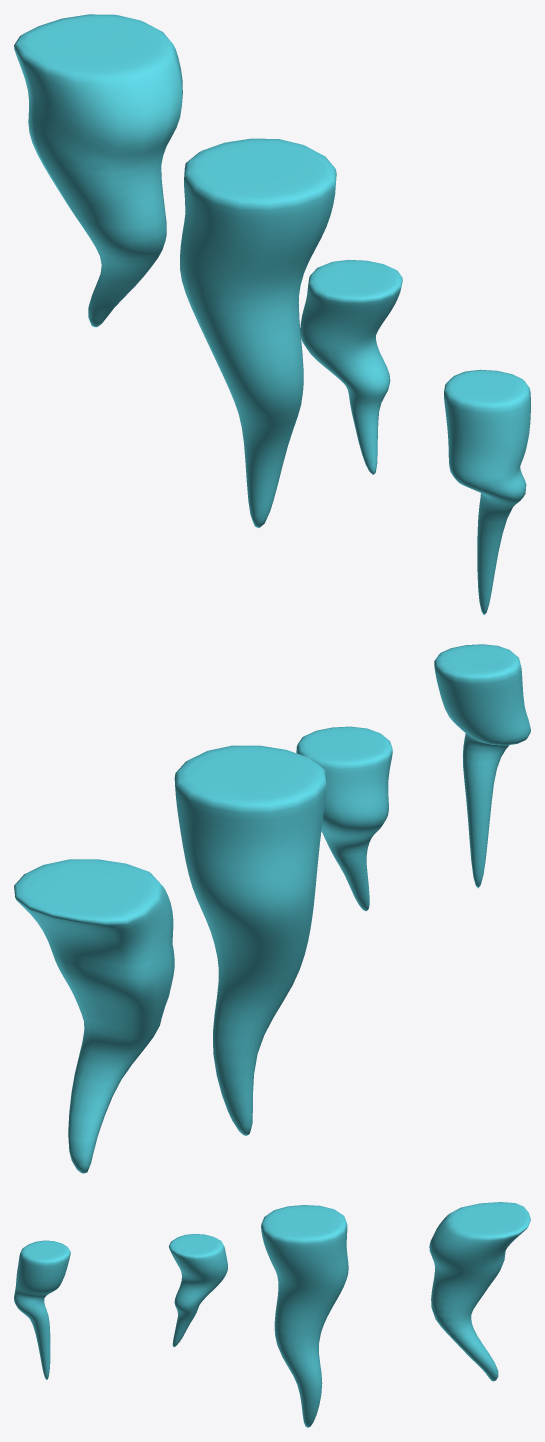
File: Eiszapfen 3.glb
The picture shows the model from 3 angles, top to bottom: view 1: azimuth 30°, elevation 25°; view 2: azimuth 150°, elevation 25°; view 3: azimuth 270°, elevation 25°; orthographic projection. The views are drawn at different scales.
Visible parts, largest first — view 1: Cube, Cube.001, Cube.003, Cube.002; view 2: Cube, Cube.001, Cube.003, Cube.002; view 3: Cube, Cube.001, Cube.003, Cube.002.
Part boxes in pixels (x1,y1,x2,y2): Cube: (180,138,336,528); Cube.001: (14,14,182,327); Cube.003: (444,369,530,614); Cube.002: (300,260,402,474); Cube: (174,745,326,1135); Cube.001: (14,859,174,1173); Cube.003: (434,644,530,888); Cube.002: (296,726,392,911); Cube: (261,1205,348,1427); Cube.001: (429,1202,530,1381); Cube.003: (14,1240,70,1379); Cube.002: (169,1233,227,1346).
Bounding box in the file's own units: 0.7817 × 2.09 × 4.68.
